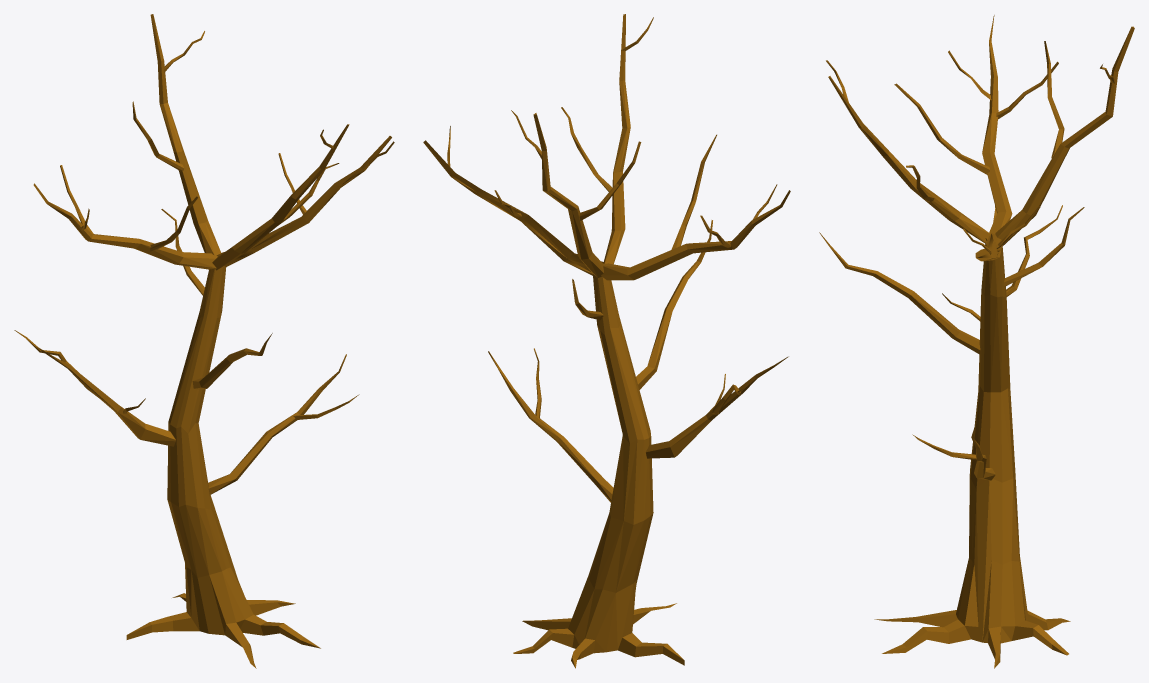
Rendered from Acacia Tree5.fbx.
The picture shows the model from 3 angles, left to right: view 1: azimuth 30°, elevation 25°; view 2: azimuth 150°, elevation 25°; view 3: azimuth 270°, elevation 25°; orthographic projection. The views are drawn at different scales.
Visible parts, largest first — view 1: Tree5; view 2: Tree5; view 3: Tree5.
Part boxes in pixels (<box>): Tree5: <box>14,14,394,668</box>; Tree5: <box>423,14,790,668</box>; Tree5: <box>819,15,1134,668</box>.
Bounding box in the file's own units: 522 × 784 × 373.
1 material, 1 textured.
